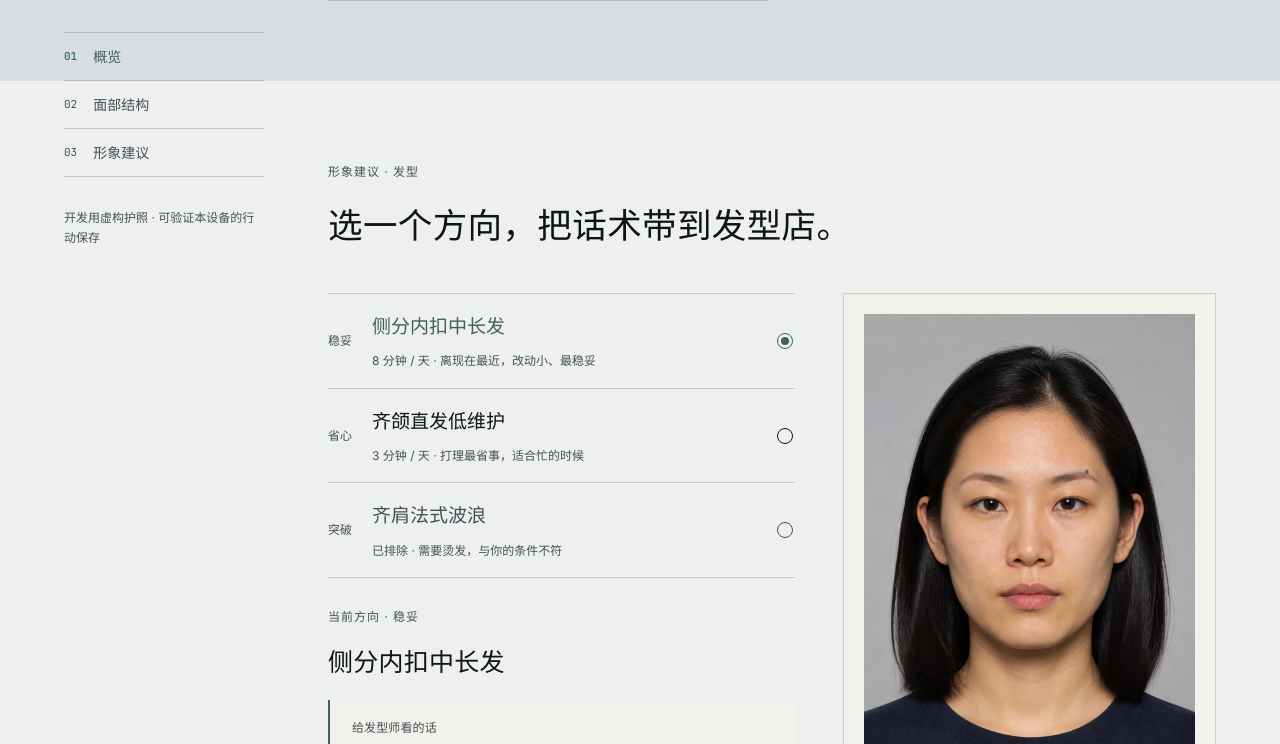
S2 honest unavailable states › only describes the selected direction's real failed task
(page scrolled)
Click the radio button labelled "省心 齐颌直发低维护 3 分钟 / 天 · 打理最省事，适合忙的时候".
click(439, 421)  # box [328, 389, 795, 483]
(page scrolled)
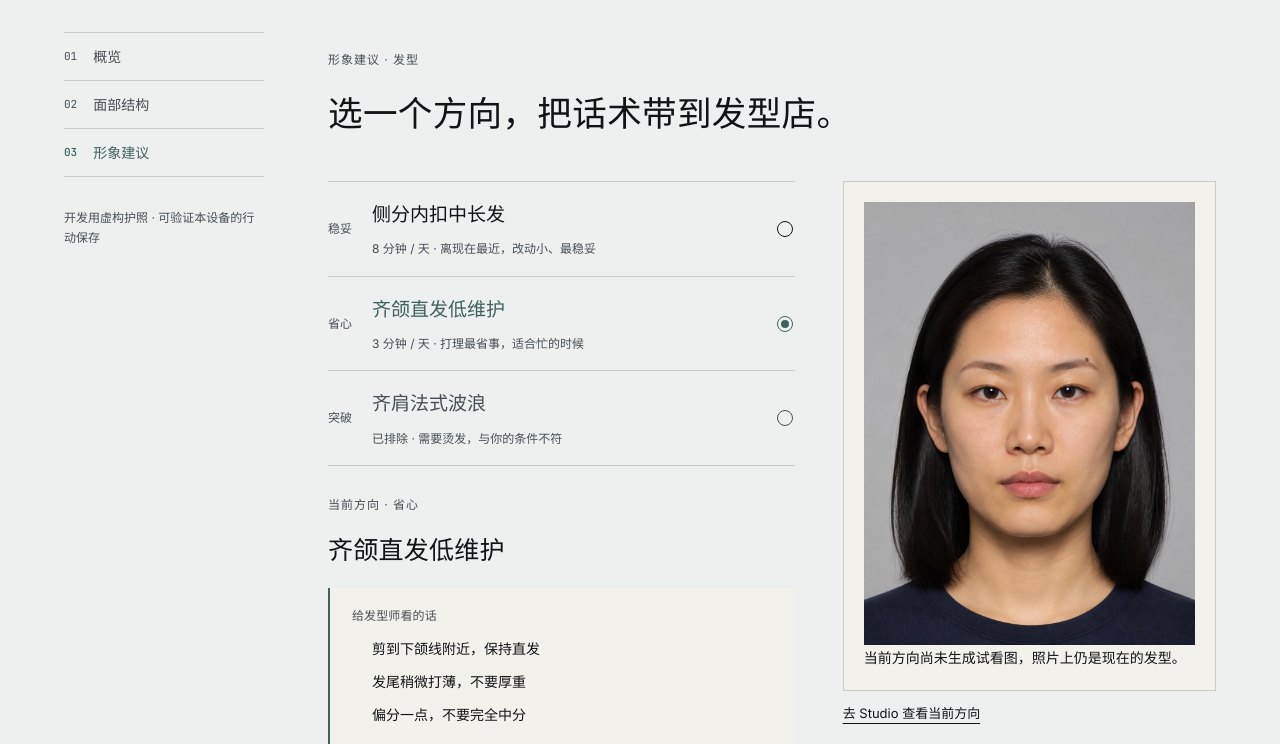
Now the element with test id "preview-state" shows "尚未生成", box [864, 649, 1186, 666]
